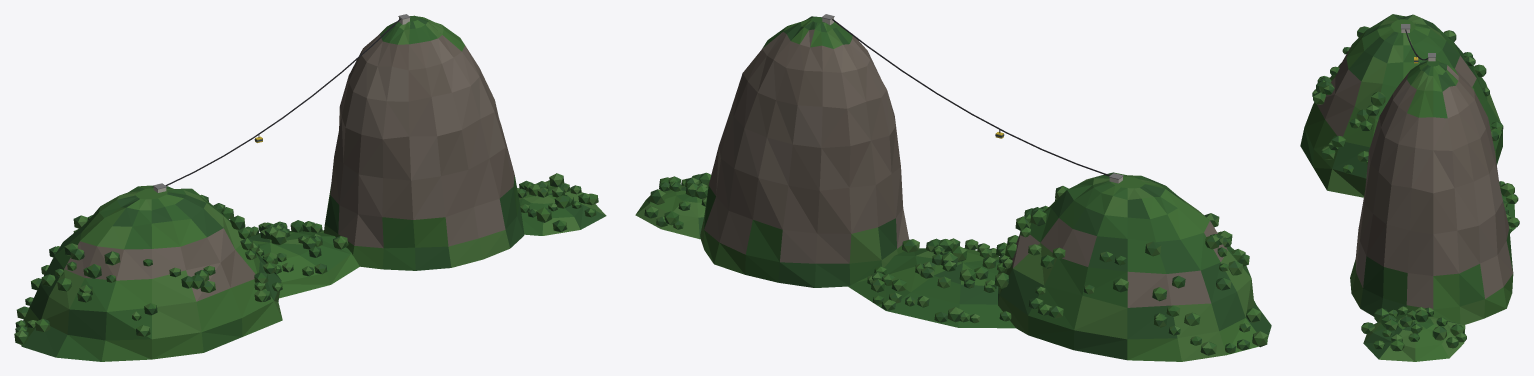
Rendered from pao_de_acucar.glb.
3 views of the same model, side by side, from view 1: azimuth 30°, elevation 25°; view 2: azimuth 150°, elevation 25°; view 3: azimuth 270°, elevation 25° (orthographic). The views are drawn at different scales.
Parts seen in each view (by area): view 1: pao_de_acucar; view 2: pao_de_acucar; view 3: pao_de_acucar.
Boxes of the visible parts, x1,y1,x2,y2 form: pao_de_acucar: (14, 14, 606, 361); pao_de_acucar: (635, 14, 1271, 361); pao_de_acucar: (1300, 14, 1519, 361).
Size of the model in its own units: 1105 by 406 by 365.
